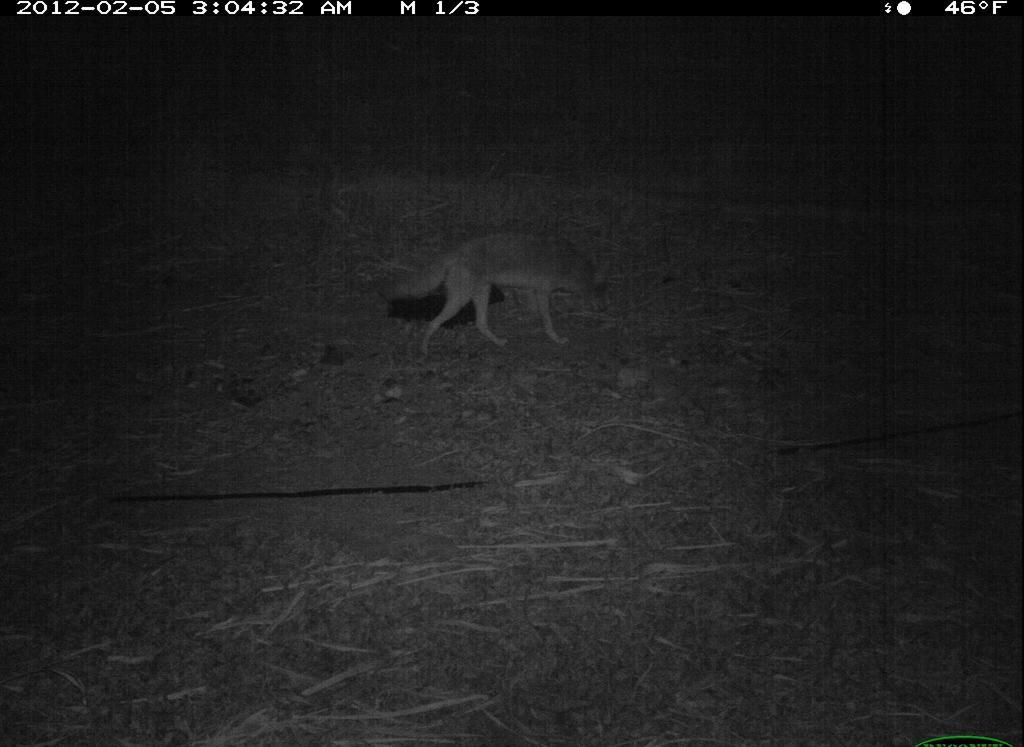coyote: (378, 228, 616, 363)
